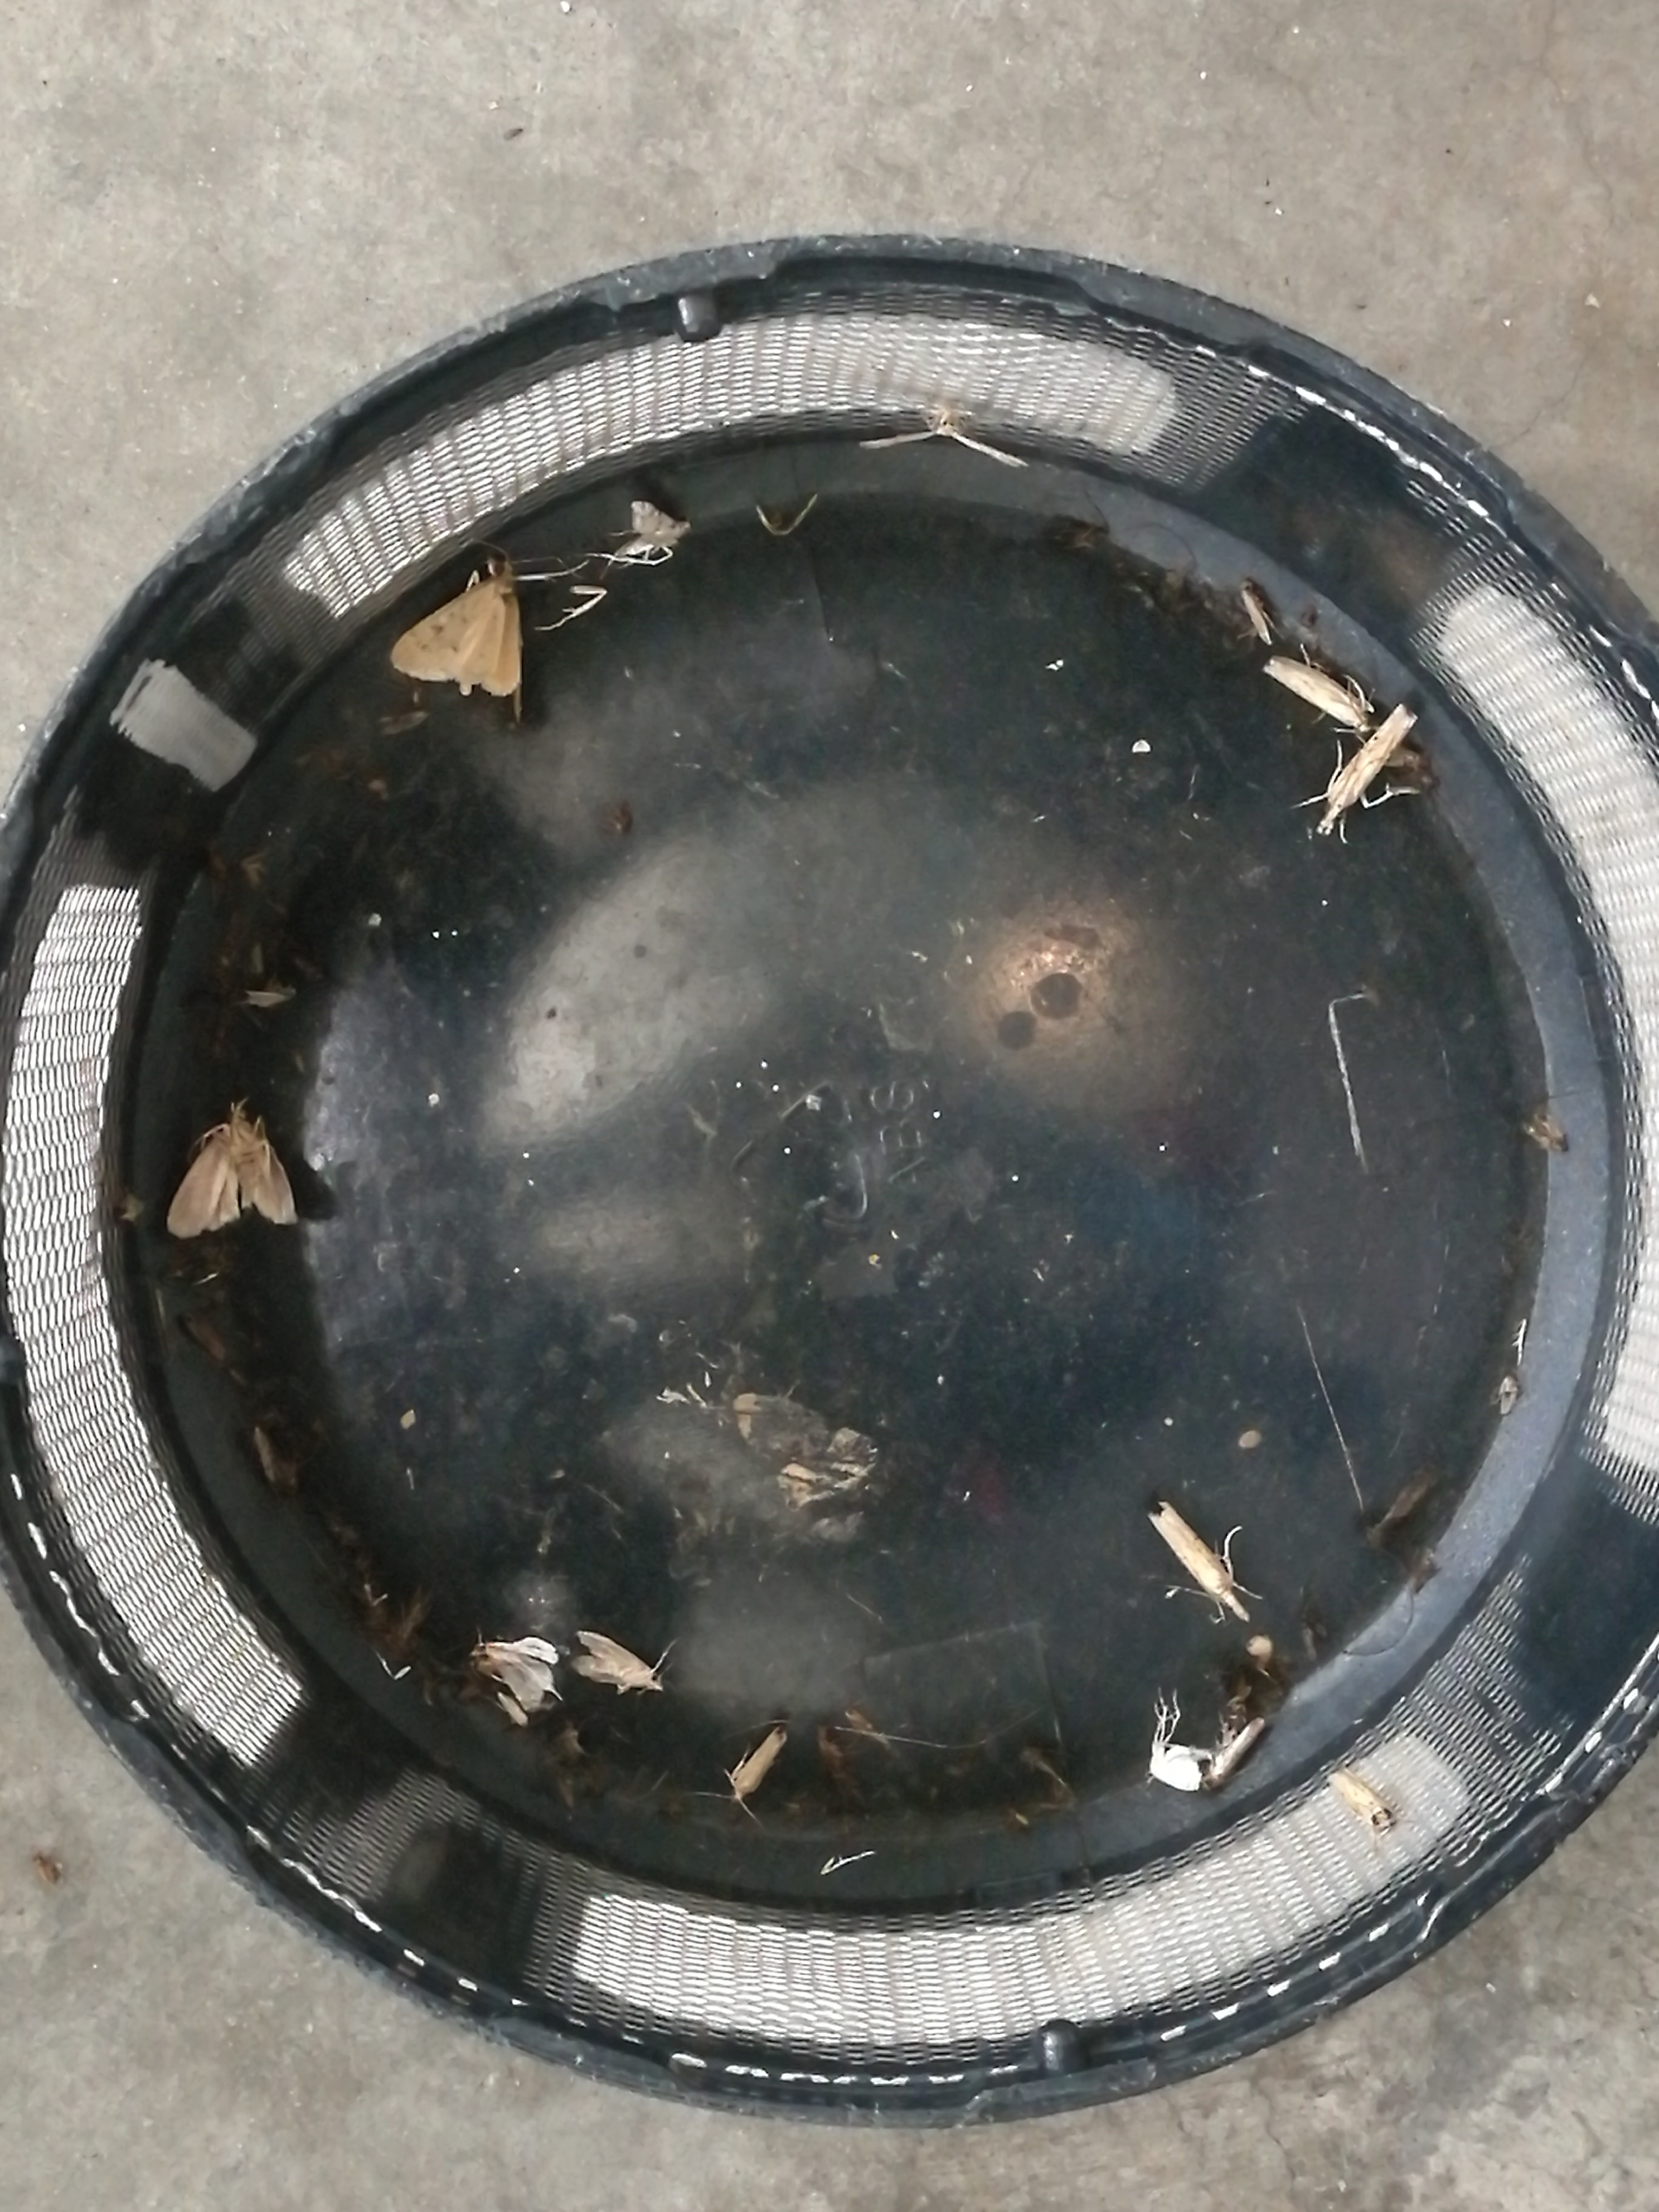mosquito: (1321, 705, 1417, 822), (1148, 1501, 1234, 1602), (1265, 655, 1371, 733), (1202, 1717, 1267, 1791), (728, 1724, 784, 1799), (1330, 1771, 1392, 1831), (253, 1426, 291, 1491), (179, 1312, 228, 1359), (1243, 580, 1269, 643), (845, 1709, 885, 1747)
moth: (392, 559, 523, 721), (167, 1097, 296, 1238), (471, 1635, 559, 1712), (572, 1630, 664, 1693), (612, 502, 692, 554), (1152, 1737, 1202, 1792)
